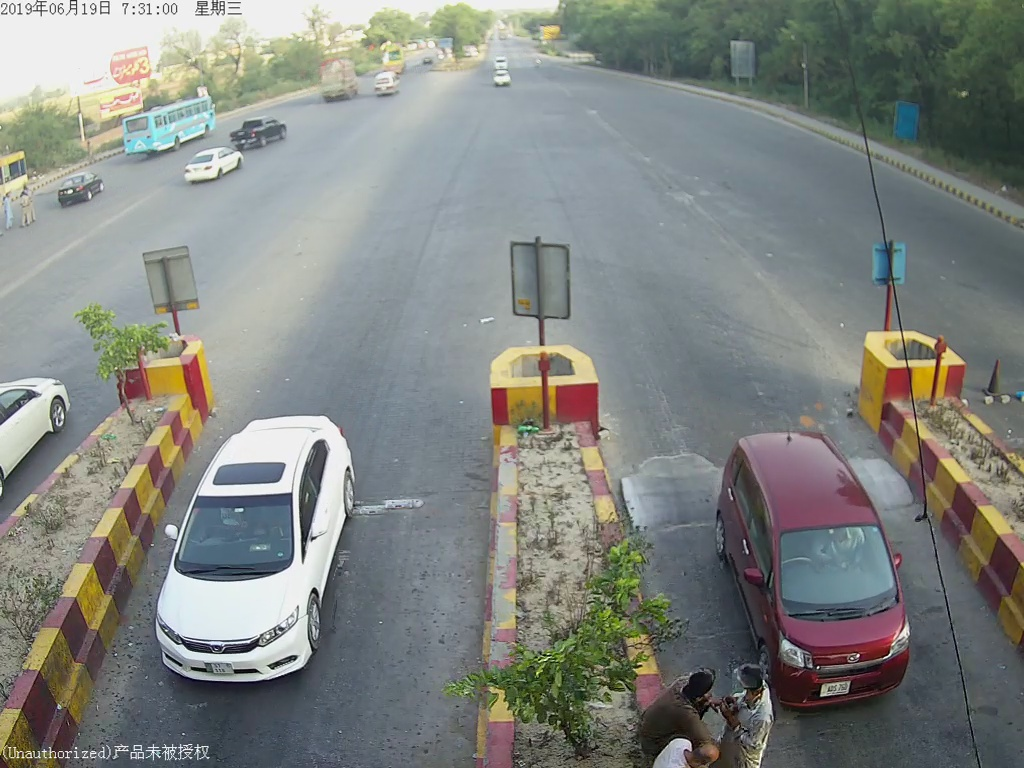Cat-1: (156, 412, 368, 685), (714, 432, 921, 681)
